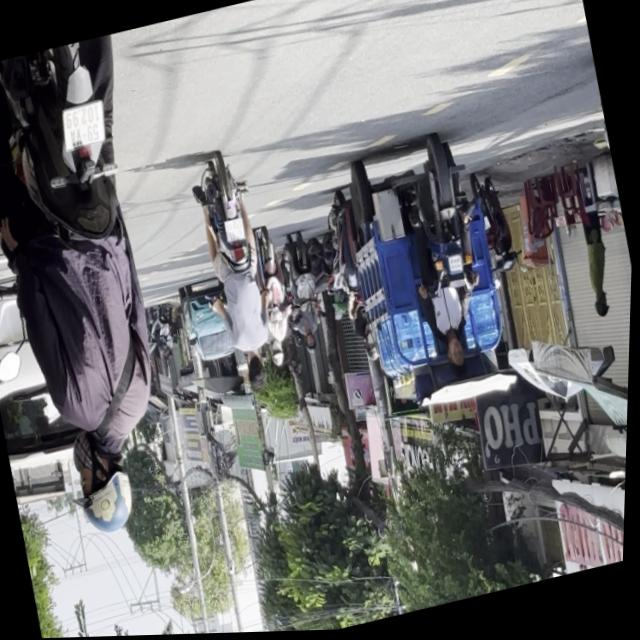helmet: (69, 432, 145, 540)
licenseplate: (0, 30, 220, 558), (323, 132, 530, 434), (182, 149, 294, 398)
motorcyclist: (444, 337, 472, 380), (245, 350, 271, 390)
nohelmet: (60, 102, 110, 152), (225, 218, 247, 244)
